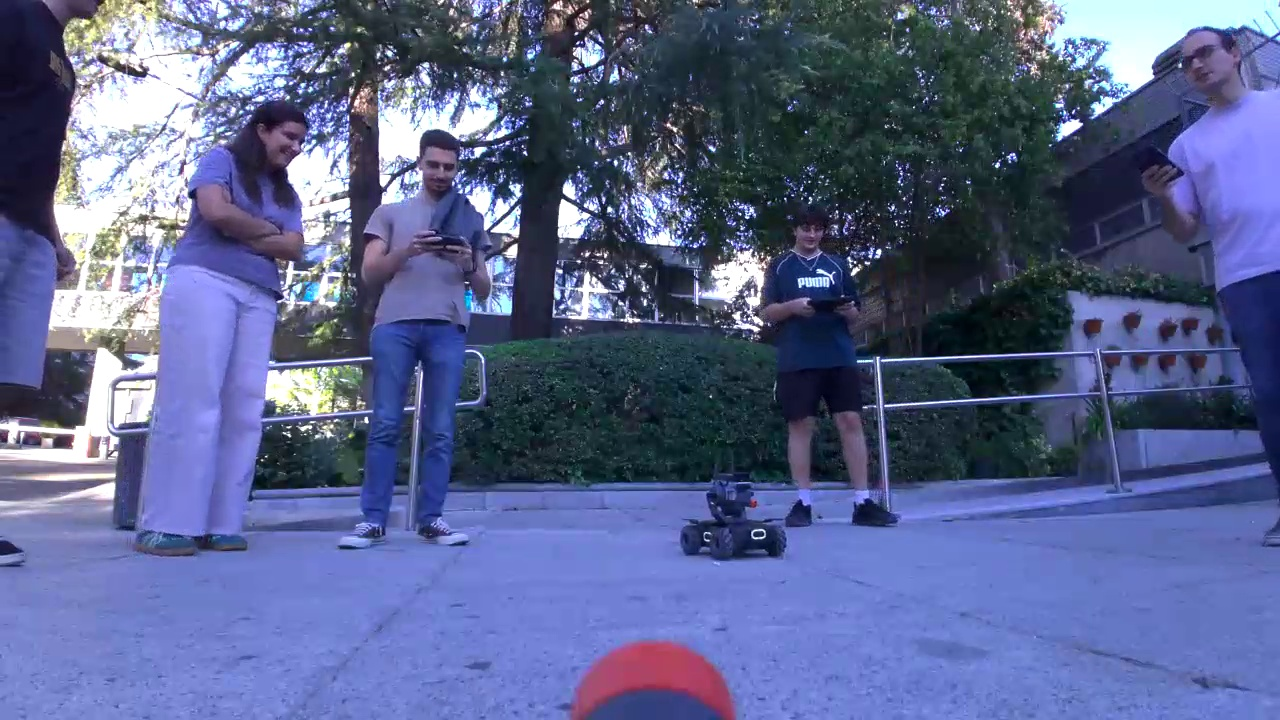robot: (677, 474, 790, 564)
